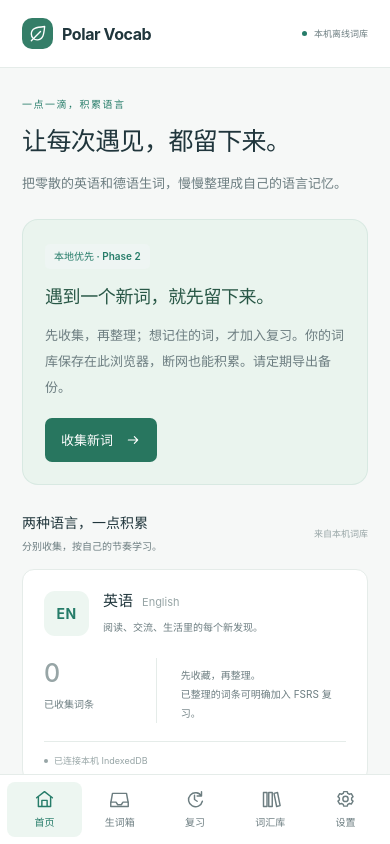
Test case: 应用导航与页面骨架 › 手机导航可访问收词页面，收词不会自动加入学习
What coordinates should you click on to do the following:
click the link "生词箱"
I would click on:
 (120, 808)
Its box is [105,789,135,828].
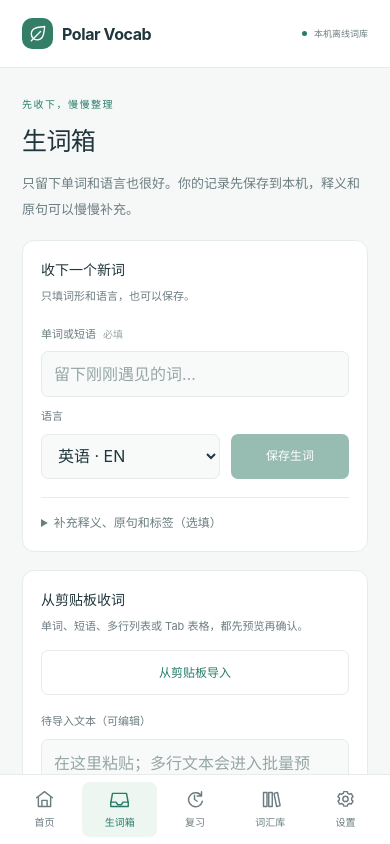
Expected: the button "保存生词" is shown, [231,434,349,479]
